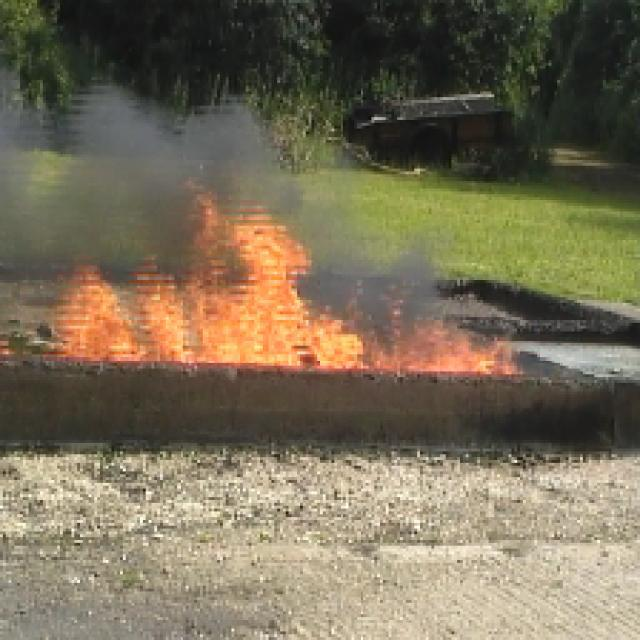Fire: (84, 230, 340, 378)
Smoke: (93, 114, 260, 178)
